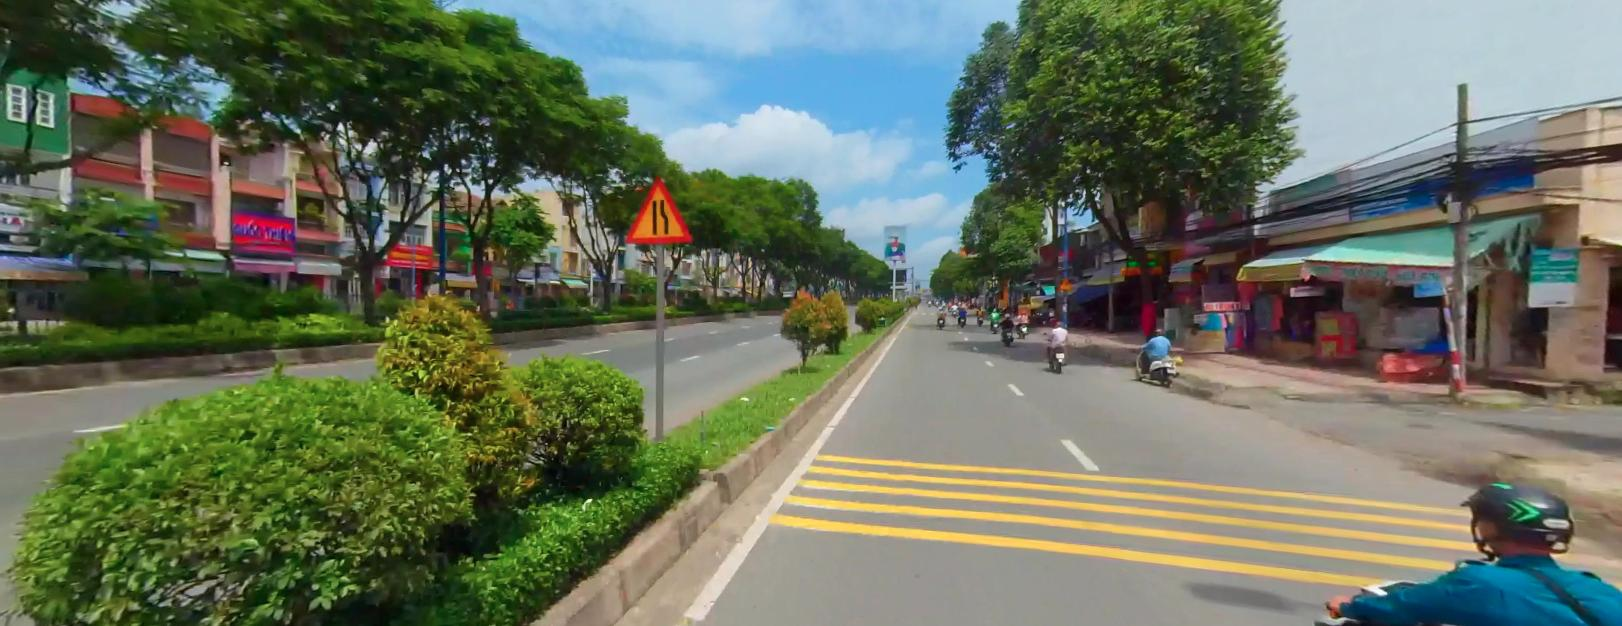Nguy hiem: (623, 173, 693, 242), (1057, 275, 1073, 289)
